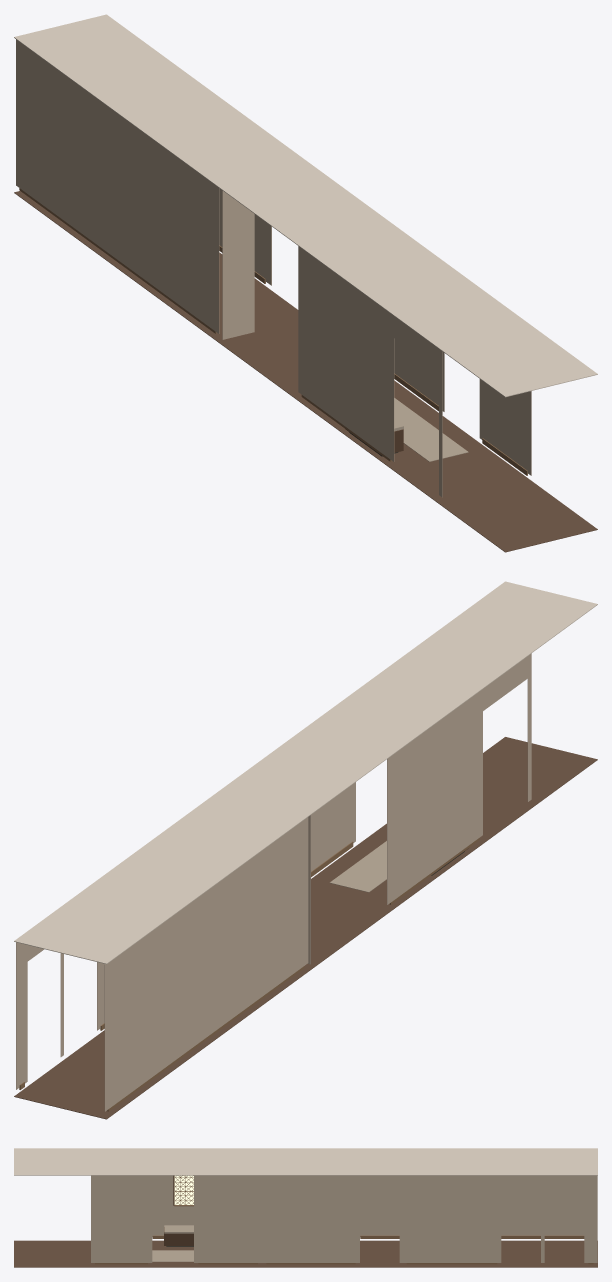
Rendered from corridor-2.glb.
3 views of the same model, one above another, from view 1: azimuth 30°, elevation 25°; view 2: azimuth 150°, elevation 25°; view 3: azimuth 270°, elevation 25° (orthographic). The views are drawn at different scales.
Parts seen in each view (by area): view 1: DESIGN | Entrance coordinated ceiling, DESIGN | Entrance paired wall finish, DESIGN | Entrance floor finish, DESIGN | Entrance paired wall finish.003, DESIGN | Arch approach finish, DESIGN | Entrance paired wall finish.013, DESIGN | Entrance quiet runner, DESIGN | Entrance paired wall finish.012, DESIGN | Entrance paired wall finish.006, DESIGN | Entrance paired wall finish.002; view 2: DESIGN | Entrance coordinated ceiling, DESIGN | Entrance paired wall finish, DESIGN | Entrance floor finish, DESIGN | Entrance paired wall finish.003, DESIGN | Entrance paired wall finish.012, DESIGN | Entrance paired wall finish.005, DESIGN | Entrance quiet runner, DESIGN | Entrance paired wall finish.002, DESIGN | Entrance paired wall finish.001; view 3: DESIGN | Entrance coordinated ceiling, DESIGN | Entrance paired wall finish.006, DESIGN | Entrance paired wall finish.009, DESIGN | Entrance floor finish, DESIGN | Entrance paired wall finish.012, DESIGN | Entrance paired wall finish, DESIGN | Entrance paired wall finish.013, DESIGN | Entrance paired wall finish.003, DESIGN | Entrance paired wall finish.005, DESIGN | Entrance paired wall finish.007, DESIGN | Entrance paired wall finish.010, DESIGN | Entrance paired wall finish.004 (+8 smaller).
Part boxes in pixels (x1,y1,x2,y2): DESIGN | Entrance coordinated ceiling: [14, 14, 597, 397]; DESIGN | Entrance paired wall finish: [16, 39, 219, 333]; DESIGN | Entrance floor finish: [14, 191, 597, 552]; DESIGN | Entrance paired wall finish.003: [298, 246, 394, 461]; DESIGN | Arch approach finish: [222, 190, 254, 339]; DESIGN | Entrance paired wall finish.013: [479, 379, 531, 475]; DESIGN | Entrance quiet runner: [394, 398, 468, 461]; DESIGN | Entrance paired wall finish.012: [394, 339, 444, 411]; DESIGN | Entrance paired wall finish.006: [219, 188, 268, 283]; DESIGN | Entrance paired wall finish.002: [394, 316, 438, 370]; DESIGN | Entrance coordinated ceiling: [14, 581, 597, 964]; DESIGN | Entrance paired wall finish: [104, 817, 308, 1111]; DESIGN | Entrance floor finish: [14, 737, 597, 1119]; DESIGN | Entrance paired wall finish.003: [387, 689, 482, 904]; DESIGN | Entrance paired wall finish.012: [311, 782, 355, 871]; DESIGN | Entrance paired wall finish.005: [16, 942, 27, 1089]; DESIGN | Entrance quiet runner: [329, 841, 386, 892]; DESIGN | Entrance paired wall finish.002: [483, 656, 527, 710]; DESIGN | Entrance paired wall finish.001: [527, 653, 531, 801]; DESIGN | Entrance coordinated ceiling: [14, 1148, 597, 1175]; DESIGN | Entrance paired wall finish.006: [402, 1175, 501, 1262]; DESIGN | Entrance paired wall finish.009: [262, 1175, 359, 1262]; DESIGN | Entrance floor finish: [14, 1240, 597, 1267]; DESIGN | Entrance paired wall finish.012: [194, 1175, 262, 1262]; DESIGN | Entrance paired wall finish: [360, 1176, 584, 1236]; DESIGN | Entrance paired wall finish.013: [91, 1175, 152, 1262]; DESIGN | Entrance paired wall finish.003: [152, 1175, 193, 1236]; DESIGN | Entrance paired wall finish.005: [584, 1175, 597, 1262]; DESIGN | Entrance paired wall finish.007: [501, 1175, 540, 1191]; DESIGN | Entrance paired wall finish.010: [360, 1175, 399, 1191]; DESIGN | Entrance paired wall finish.004: [545, 1175, 584, 1191].
Bounding box in the file's own units: 1.7 × 2.73 × 15.61.
